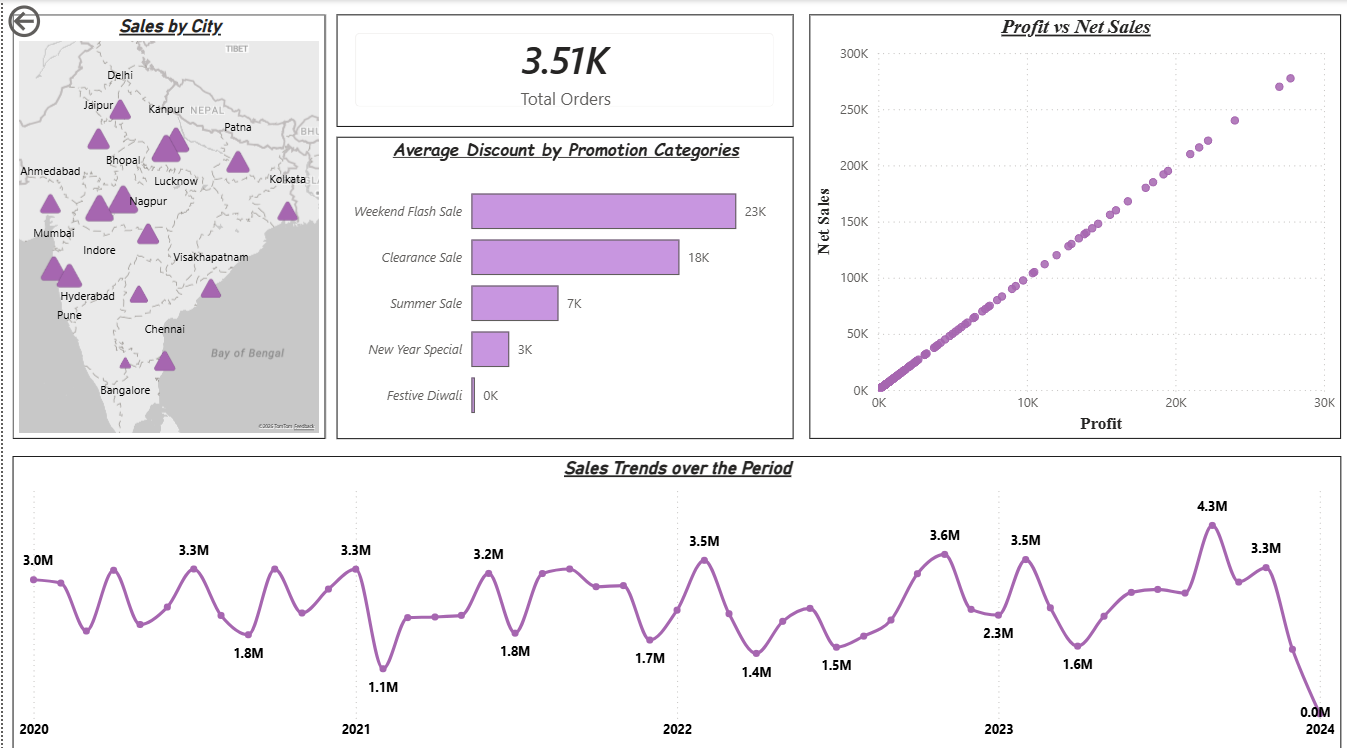

What the dashboard file says about the page in this screenshot:
{"tool":"powerbi","page":{"name":"Overview","canvas":[1280,720],"ordinal":0},"visuals":[{"type":"lineChart","title":"Sales Trends over the Period","fields":{"Y":["Sum(Facts table.Net Sales)"],"Category":["Date Table 1.Date.Variation.Date Hierarchy.Year","Date Table 1.Date.Variation.Date Hierarchy.Quarter","Date Table 1.Date.Variation.Date Hierarchy.Month","Date Table 1.Date.Variation.Date Hierarchy.Day"]},"box":[9.1,432.4,1259.7,279.9],"z":0},{"type":"scatterChart","title":"Profit vs Net Sales","fields":{"X":["Facts table.Profit"],"Y":["Facts table.Net Sales"]},"box":[764.7,13.7,504.1,402.8],"z":1000},{"type":"barChart","title":"Average Discount by Promotion Categories","fields":{"Y":["Avg(Facts table.Discount Value)"],"Category":["Dim Promotion.Promotion Name"]},"box":[316.4,129.7,433.6,286.8],"z":2000},{"type":"azureMap","title":"Sales by City","fields":{"Category":["Dim Customers.City"],"Size":["Sum(Facts table.Net Sales)"]},"box":[9.1,13.7,297,402.8],"z":3000},{"type":"cardVisual","fields":{"Data":["Count(Facts table.Order ID)"]},"box":[316.4,13.7,433.6,107],"z":4000},{"type":"actionButton","box":[0,0,100,40],"z":5000}]}

Visuals, with their boxes in screenshot pixels (x1, y1, x2, y2), scaled from the page's 1280x720 canvas onto the 1347x748 screenshot:
"Sales Trends over the Period" lineChart: box=[10, 449, 1335, 740]
"Profit vs Net Sales" scatterChart: box=[805, 14, 1335, 433]
"Average Discount by Promotion Categories" barChart: box=[333, 135, 789, 433]
"Sales by City" azureMap: box=[10, 14, 322, 433]
cardVisual - Count(Facts table.Order ID): box=[333, 14, 789, 125]
actionButton: box=[0, 0, 105, 42]
